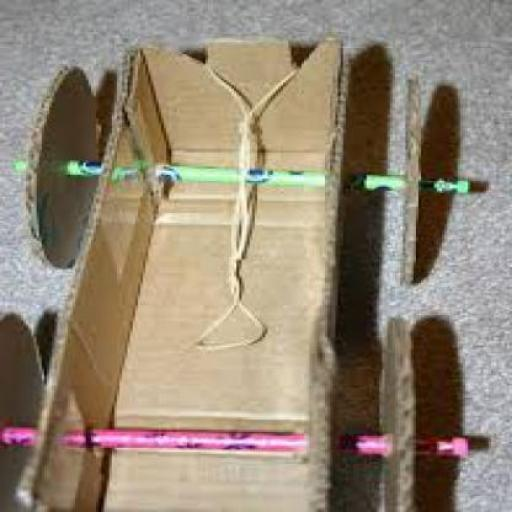cardboard: (21, 36, 353, 510), (31, 58, 104, 269), (2, 307, 50, 510), (376, 315, 414, 510), (398, 72, 430, 285)
